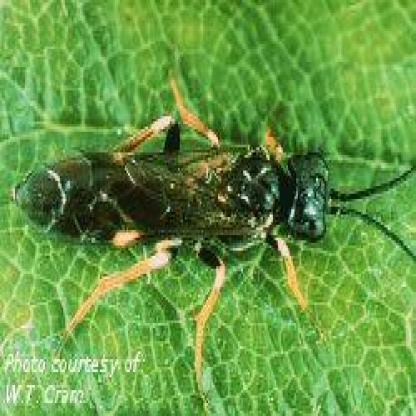sawfly: (18, 72, 407, 389)
